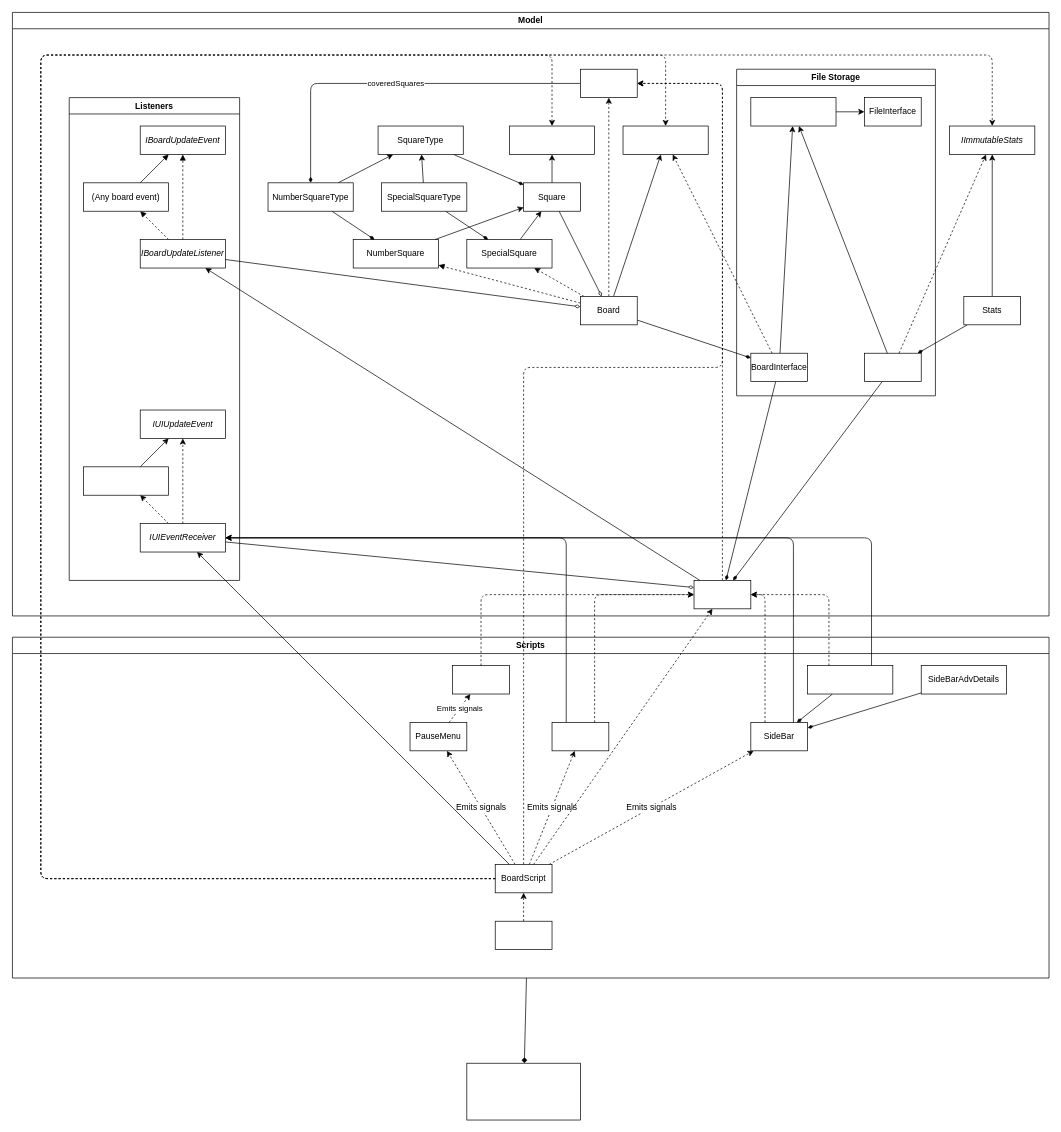
This 1061x1132 diagram has some shape labels left out. Here are the shapes that lost their labels. From the top down, the centre of each, then its label:
point (608, 83): Position
point (793, 111): FileInterface<T>
point (552, 139): IImmutableSquare
point (665, 139): IImmutableBoard
point (892, 367): StatsInterface
point (126, 480): (Any UI event)
point (722, 594): Game
point (480, 679): RestartDialog
point (850, 679): SideBarPowerUps
point (580, 736): GameOver
point (523, 935): MainMenu
point (523, 1091): GODOT
